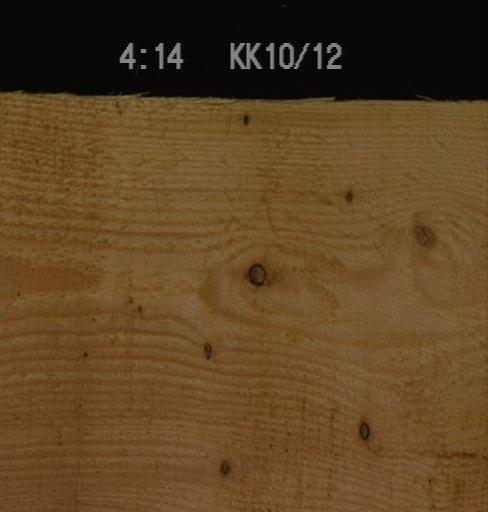dry_knot: (355, 417, 371, 441)
small_knot: (199, 337, 216, 364), (216, 454, 231, 477), (340, 187, 355, 204), (239, 109, 251, 127), (78, 345, 91, 361), (133, 300, 146, 315)
sound_knot: (410, 221, 437, 248)
